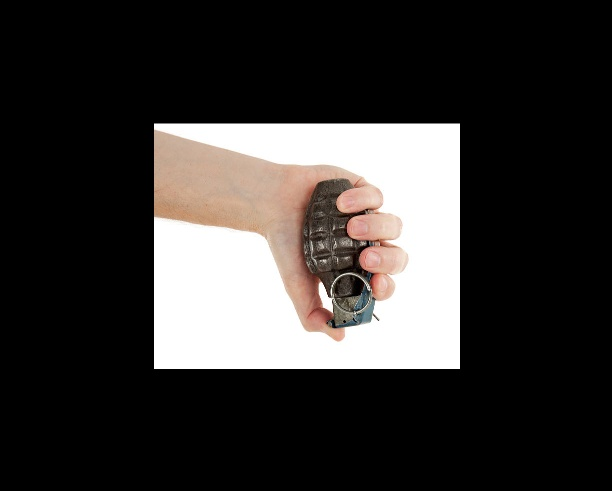e1: (299, 171, 382, 336)
